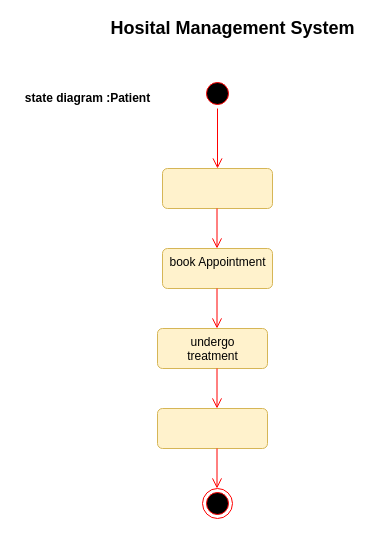
This 379x536 diagram has some shape labels left out. Here are the shapes that lost their labels. From the top down, the centre of each, then its label:
the point at 217,188: Register
the point at 212,428: prescribe Medicine
